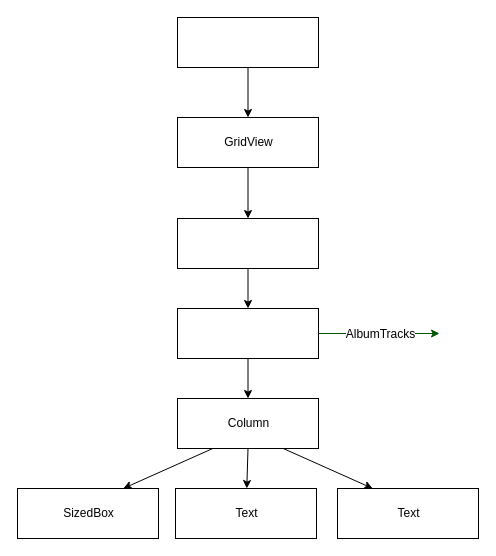
Some shapes in this 496 by 556 pixel diagram are drawn without their labels. Each missing label, with the centre of its shape:
"Card" goes at point 247,333.
"IconButton" goes at point 247,243.
"OrientationBuilder" goes at point 247,42.
